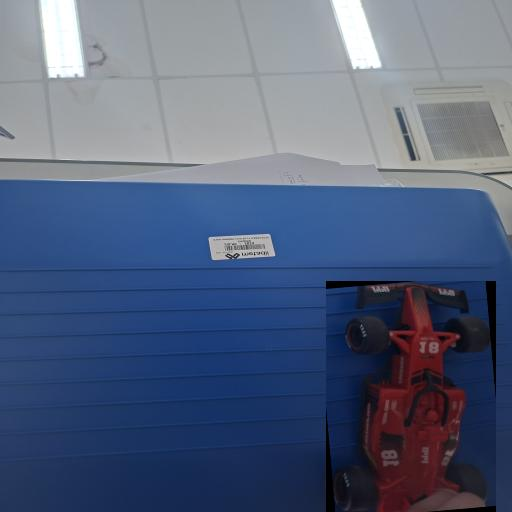carro: (326, 282, 495, 511)
